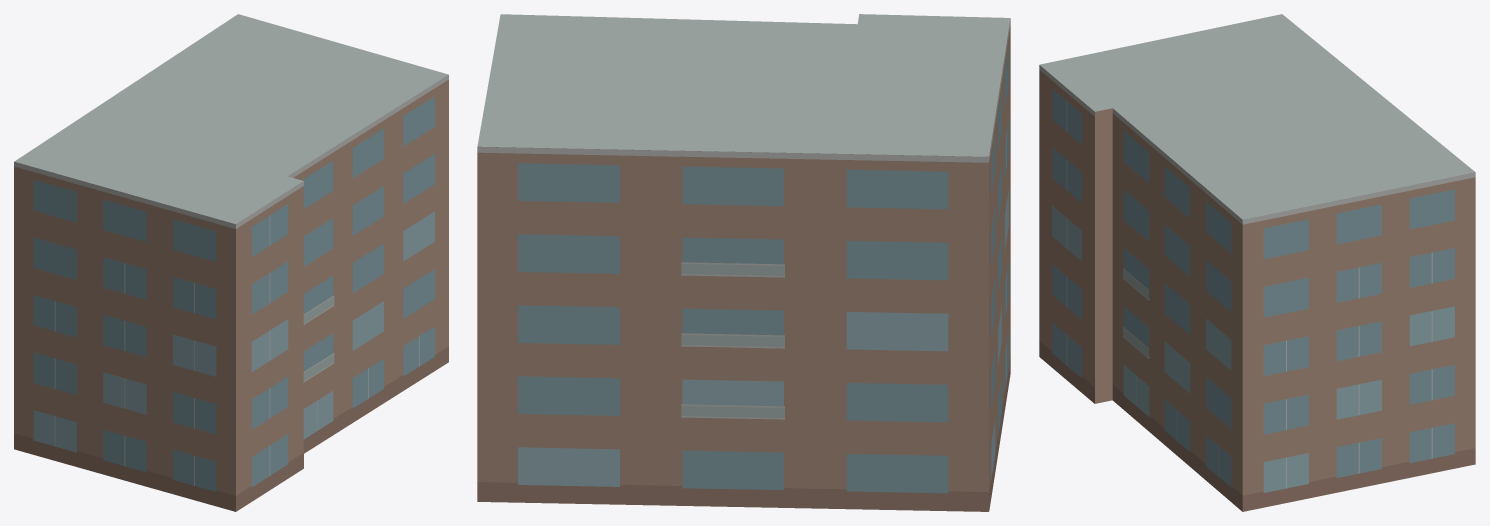
Rendered from survey-upis-32705736.glb.
3 views of the same model, side by side, from view 1: azimuth 30°, elevation 25°; view 2: azimuth 150°, elevation 25°; view 3: azimuth 270°, elevation 25° (orthographic). The views are drawn at different scales.
Parts seen in each view (by area): view 1: survey-upis-32705736.tmp; view 2: survey-upis-32705736.tmp; view 3: survey-upis-32705736.tmp.
Boxes of the visible parts, x1=… form: survey-upis-32705736.tmp: x1=14, y1=14, x2=448, y2=511; survey-upis-32705736.tmp: x1=477, y1=14, x2=1010, y2=511; survey-upis-32705736.tmp: x1=1039, y1=14, x2=1475, y2=511.
Bounding box in the file's own units: 21.76 × 14.4 × 19.51.
